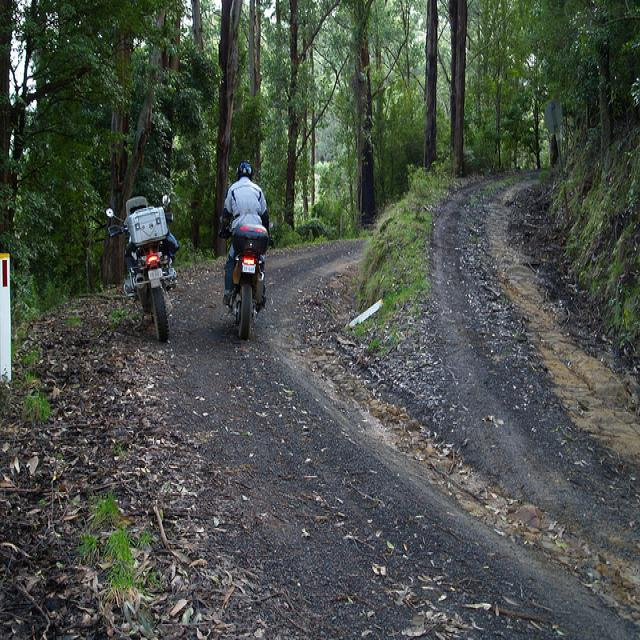motor: (105, 195, 178, 342), (228, 211, 269, 340)
